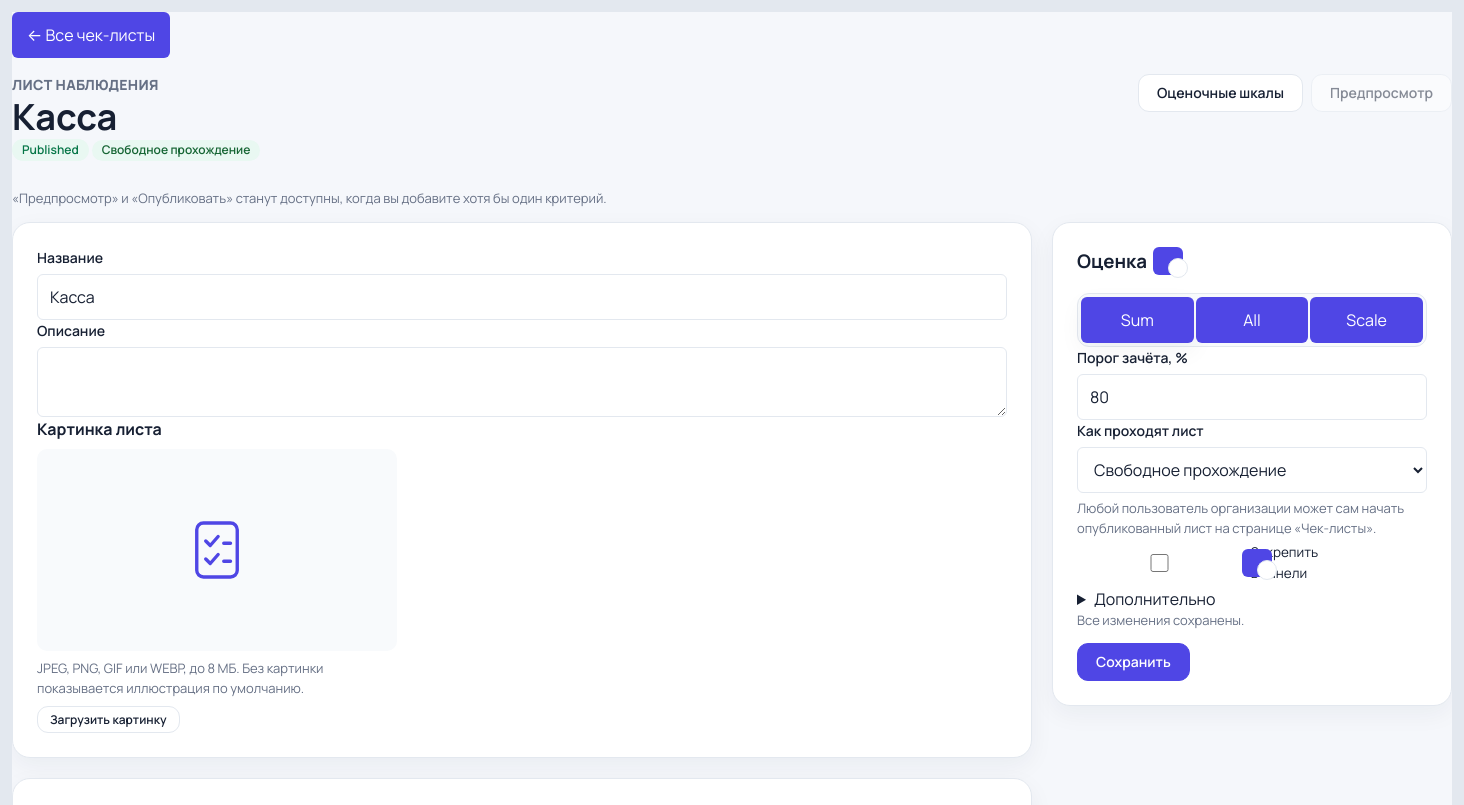
it: ChecklistBuilder: pin to the dashboard (PR 354) › explains the limit when the server answers 409
Click the checkbox labelled "Закрепить в панели" at (1159, 563), box [1081,554,1238,572]
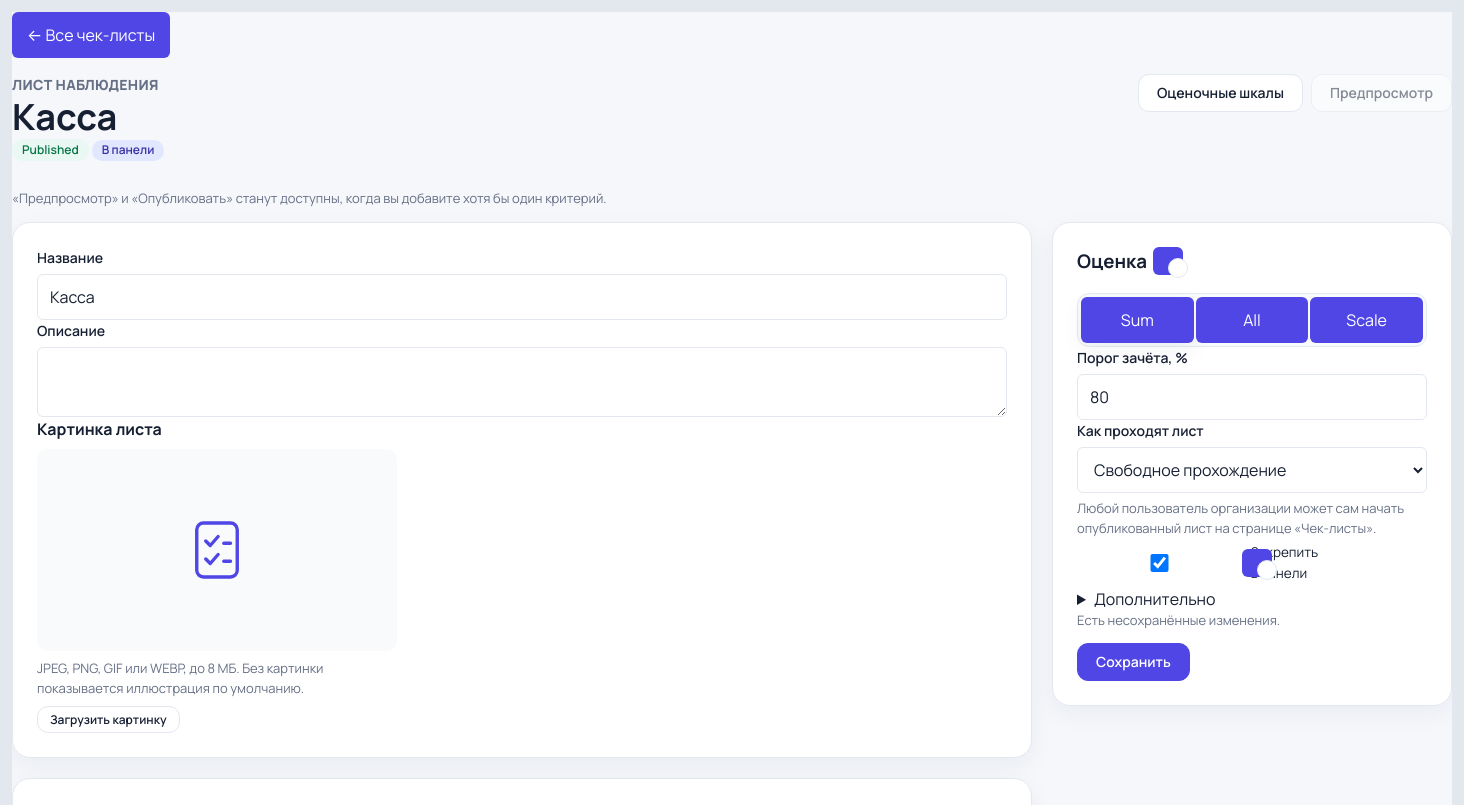
Click the button "Сохранить" at (1133, 662), box [1077,644,1190,681]
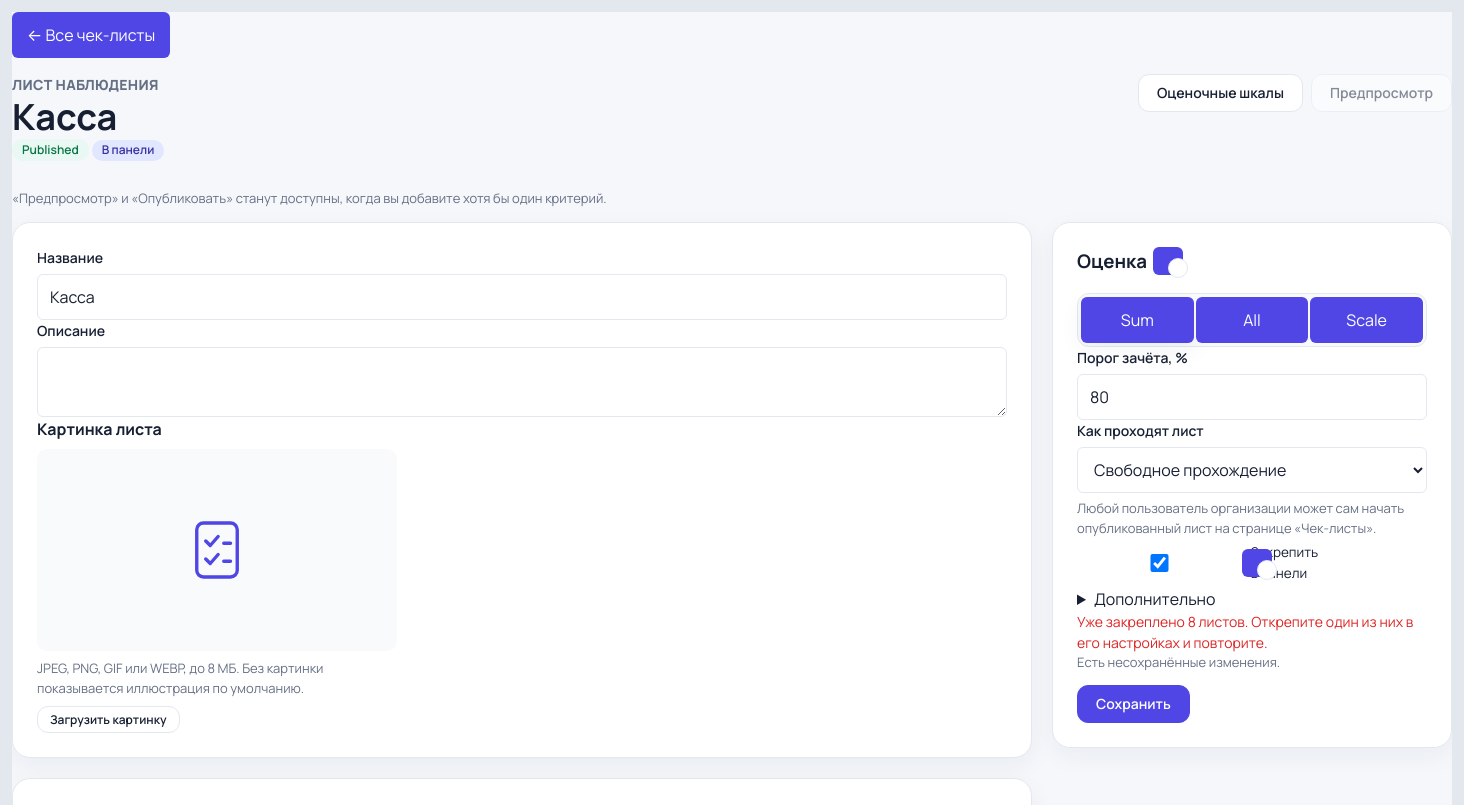
Result: the text "Уже закреплено 8 листов" is shown at [1077,612,1413,652]
